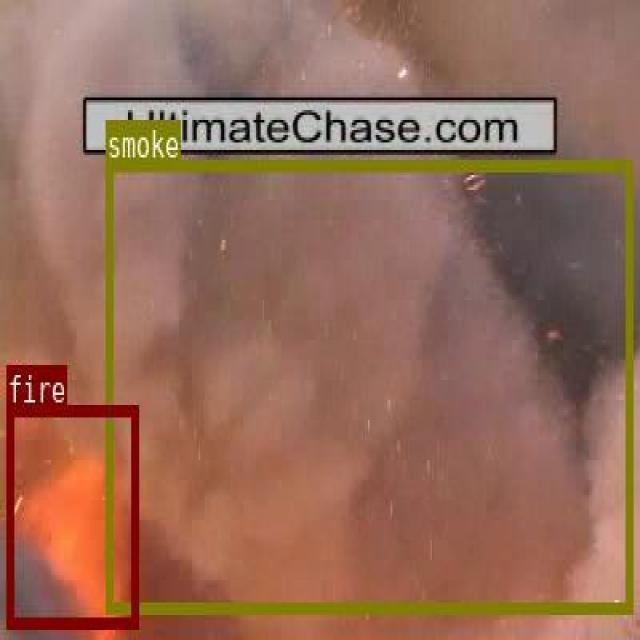fire: (7, 404, 137, 627)
smoke: (105, 158, 631, 612)
